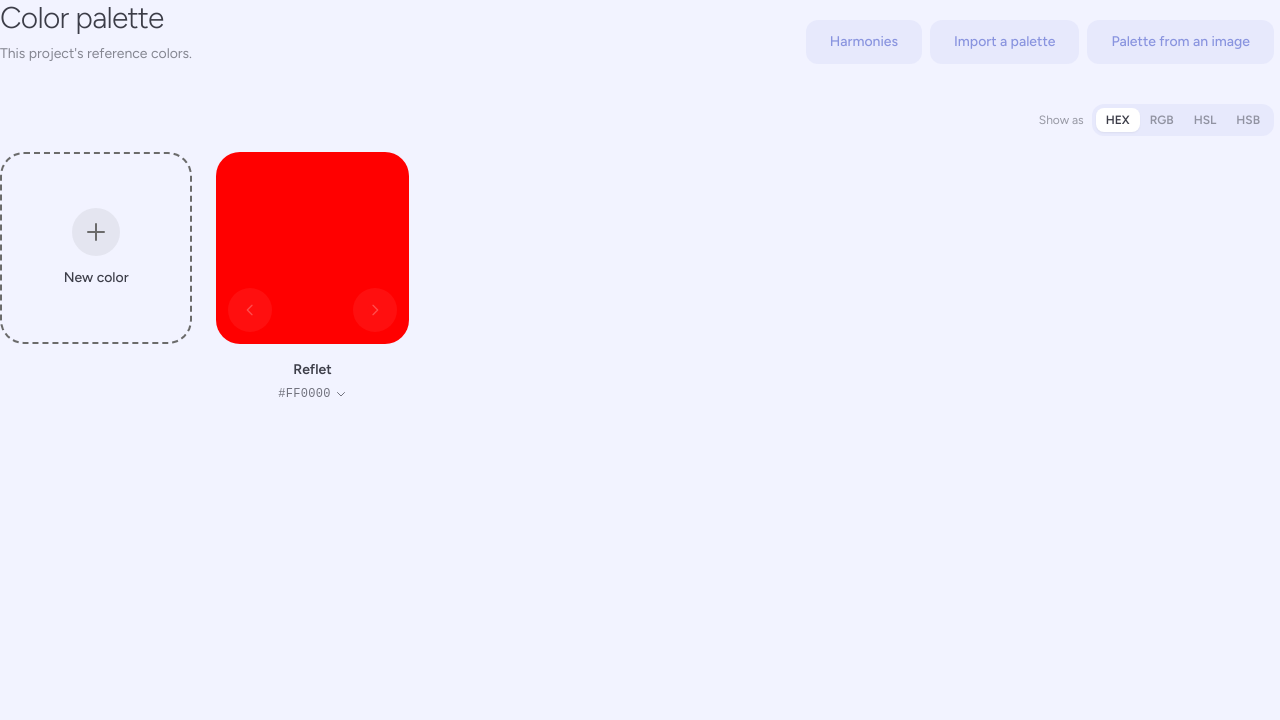
Test: ProjectPalette › opens the add-color modal
What coordinates should you click on to do the following:
click the button "New color"
I would click on:
 (96, 248)
Its box is [0,152,192,344].
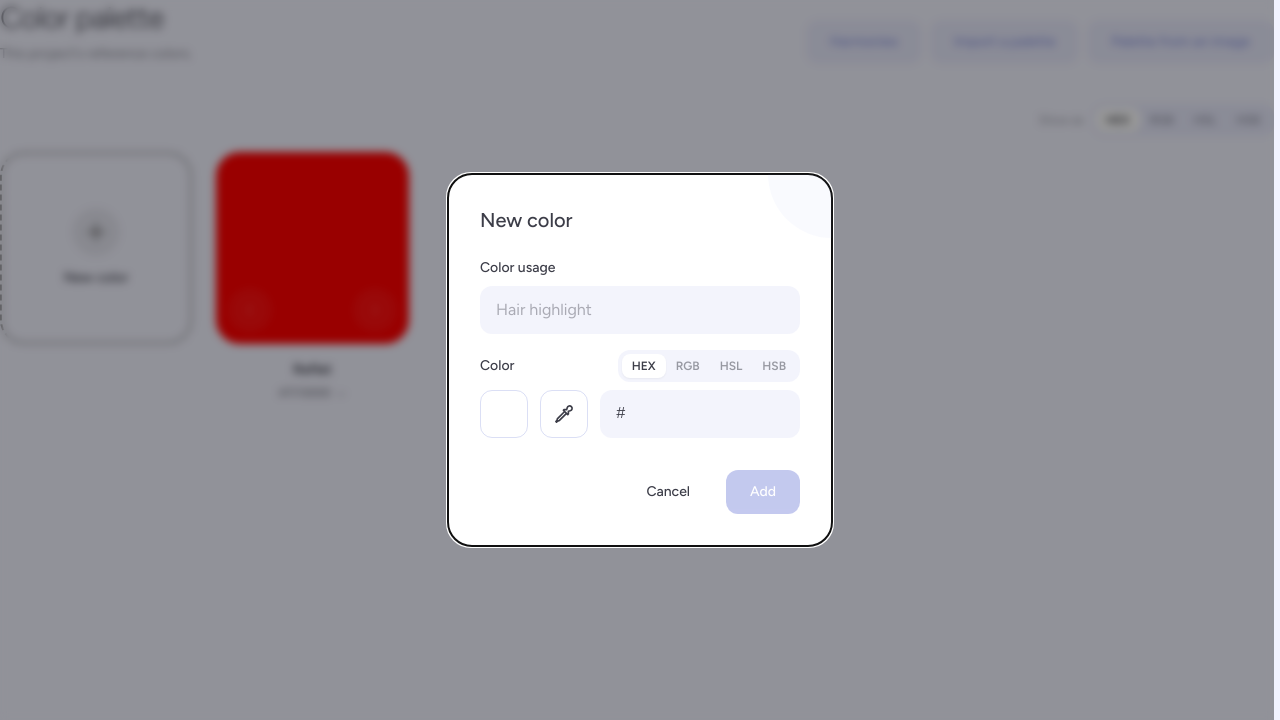
Expected: the heading "New color" is shown, [480,208,572,232]
